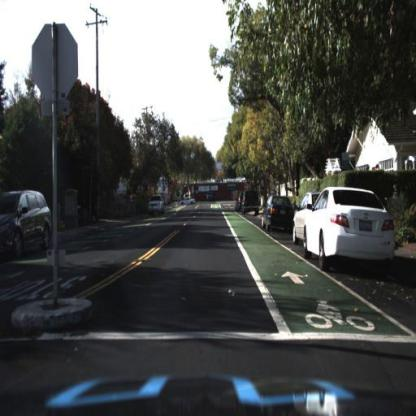car: (305, 188, 397, 278), (1, 187, 52, 260), (292, 186, 324, 252), (263, 193, 293, 235), (242, 189, 263, 216), (145, 201, 166, 224), (178, 195, 198, 211)
